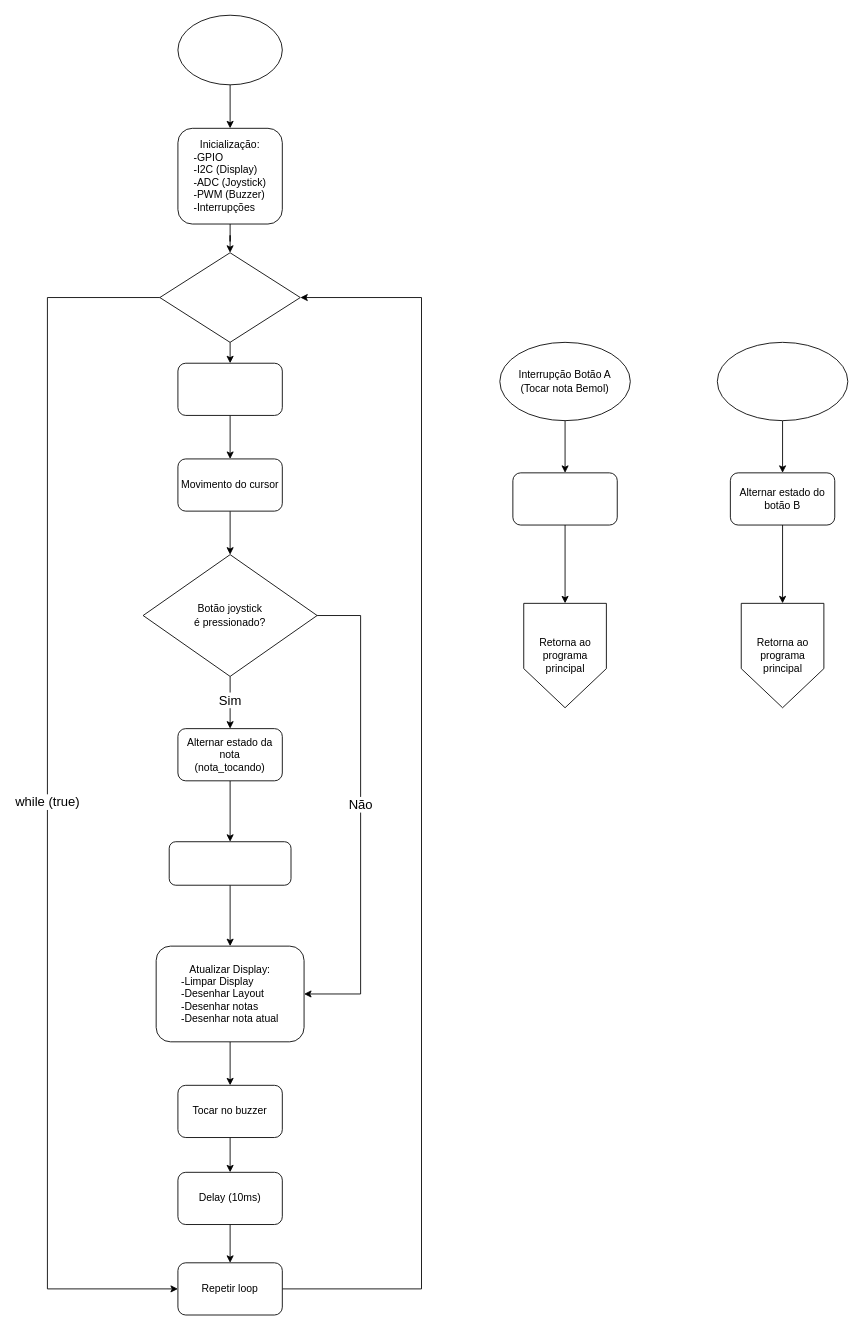
This 863x1330 diagram has some shape labels left out. The shapes that lost their labels are listed below. From the top down, each one's box as (x1, y1, x2, y2) in pixels, then its label:
(177, 14, 282, 85): Inicio
(159, 252, 300, 342): Loop principal
(177, 362, 282, 415): Leitura do Joystick -Eixo x -Eixo y
(716, 341, 848, 421): Interrupção Botão B (Tocar nota Sustenido)
(512, 472, 617, 525): Alternar estado do botão A
(168, 841, 291, 885): Tocar nota no buzzer
